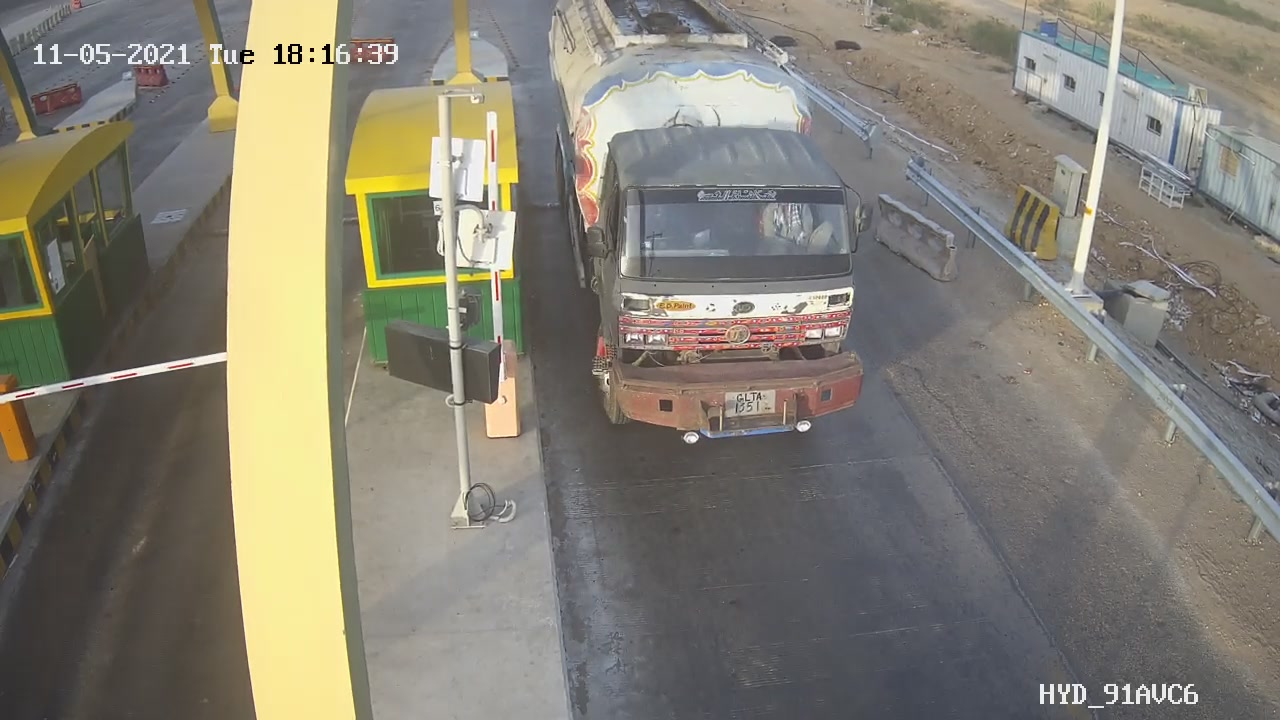F6: (538, 1, 857, 448)
